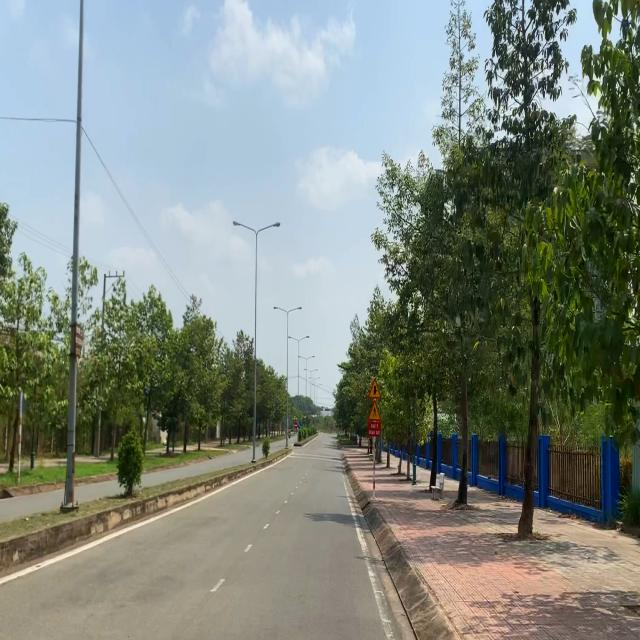Giao voi duong khong uu tien: (369, 378, 381, 399)
Nguoi di bo cat ngang: (368, 400, 381, 421)
